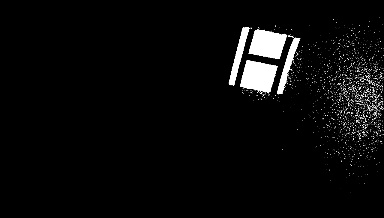H: (231, 26, 296, 94)
